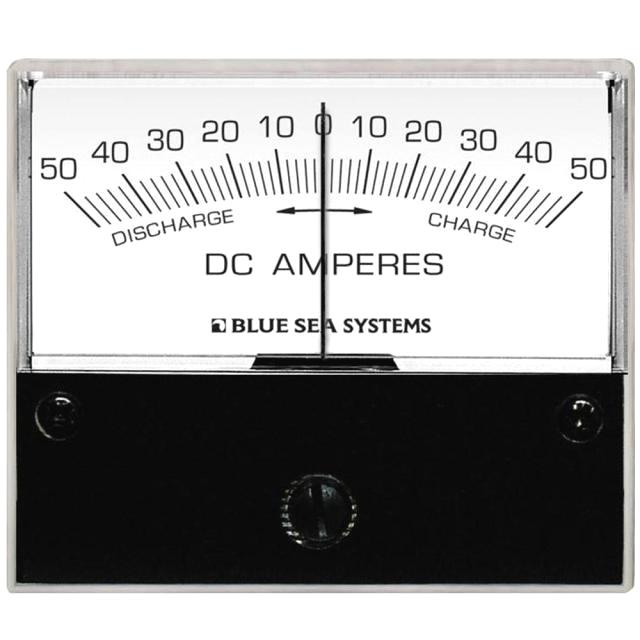Needle_Tip: (294, 93, 353, 144)
Needle_base: (262, 325, 388, 421)
max_value: (562, 150, 626, 199)
min_value: (28, 144, 93, 202)
